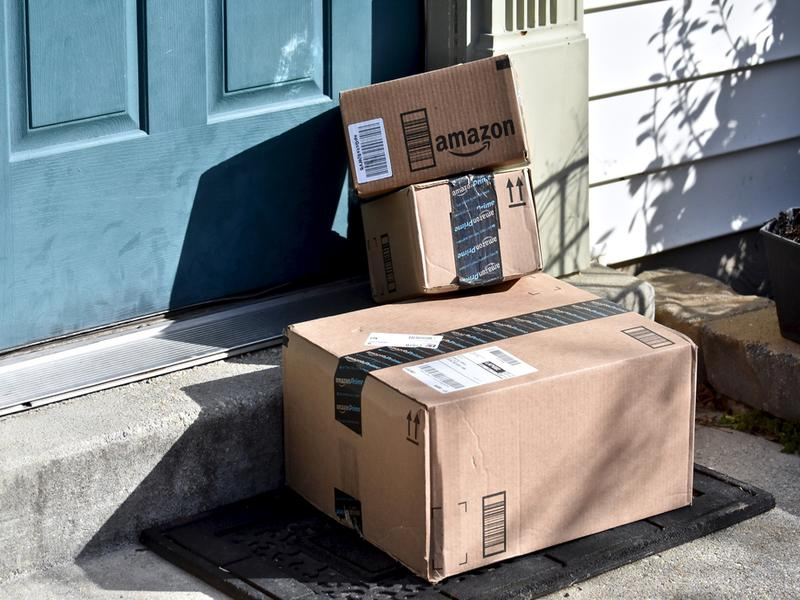package: (269, 267, 708, 585), (326, 48, 535, 194), (345, 163, 547, 294)
